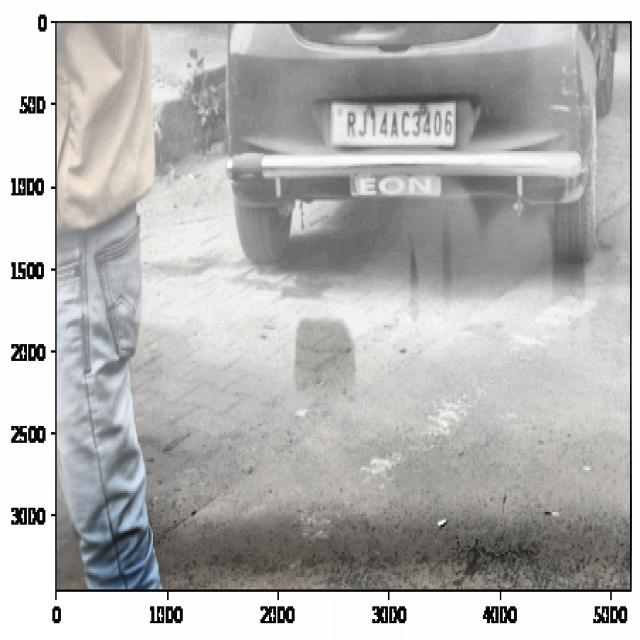license_plate: (342, 97, 458, 154)
